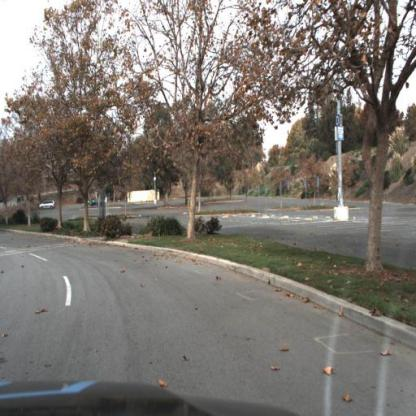car: (38, 200, 57, 212), (88, 196, 102, 208)
